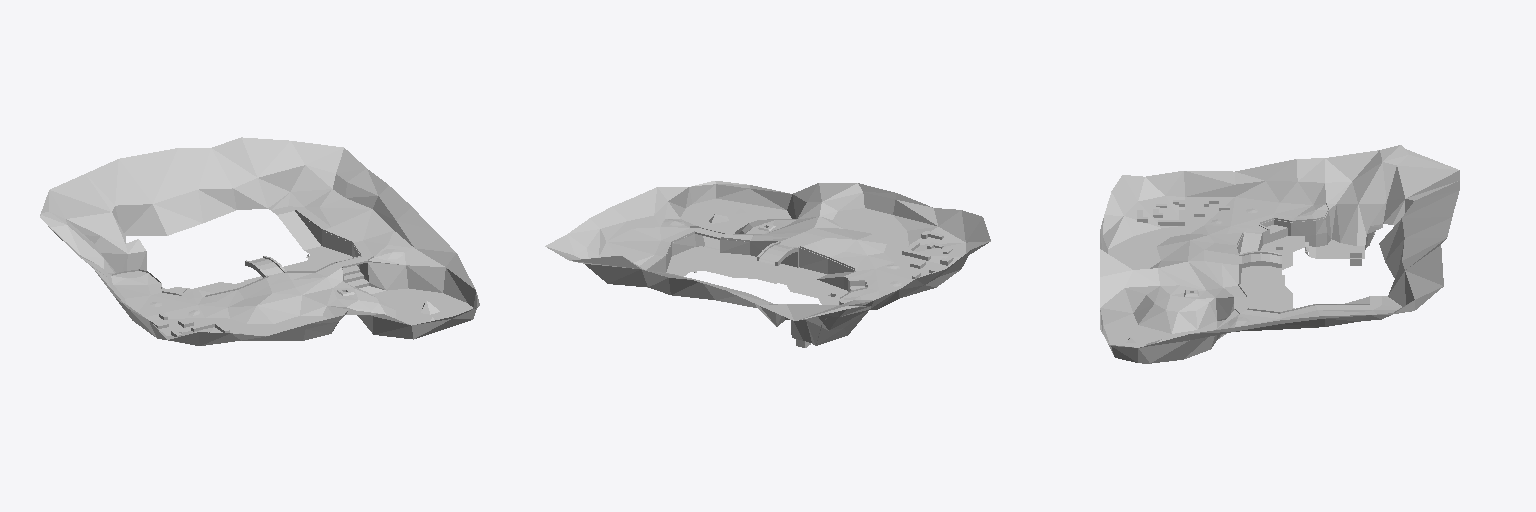
Rendered from Escenario.obj.
3 renders of one model, left to right at view 1: azimuth 30°, elevation 25°; view 2: azimuth 150°, elevation 25°; view 3: azimuth 270°, elevation 25°, orthographic.
Parts seen in each view (by area): view 1: Escenario; view 2: Escenario; view 3: Escenario.
Boxes of the visible parts, x1=… form: Escenario: x1=40, y1=137, x2=479, y2=345; Escenario: x1=545, y1=181, x2=990, y2=347; Escenario: x1=1100, y1=145, x2=1459, y2=363.
Size of the model in its own units: 26.74 by 7.13 by 26.74.